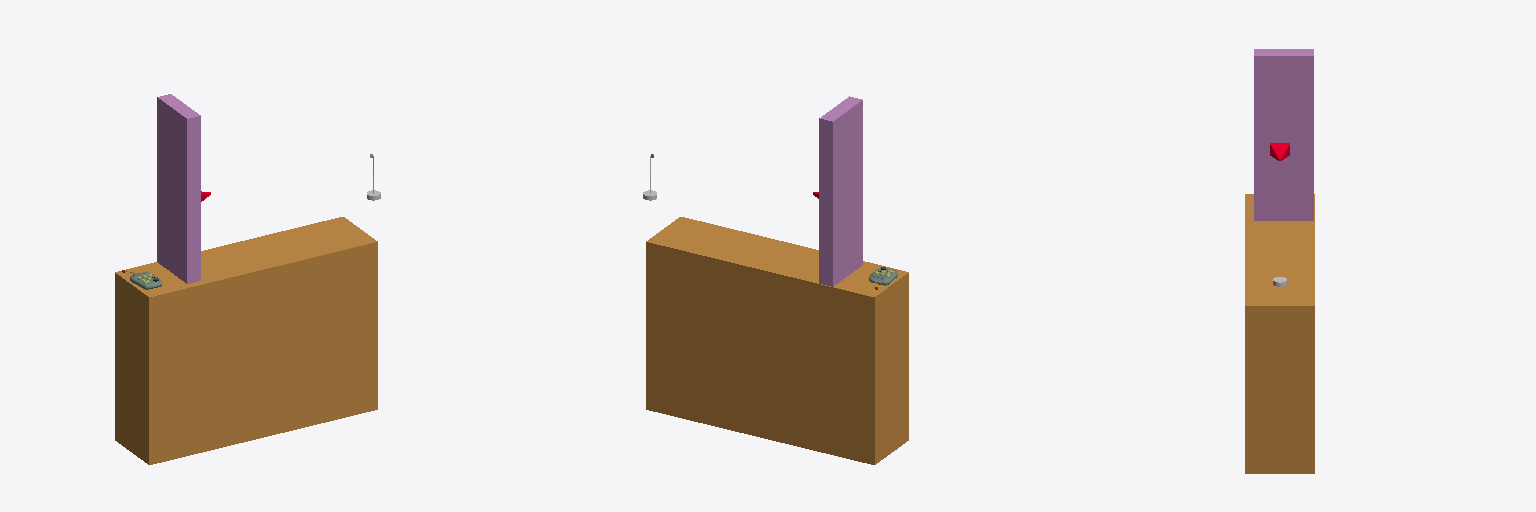
The model's file is vibrator.obj.
3 renders of one model, left to right at view 1: azimuth 30°, elevation 25°; view 2: azimuth 150°, elevation 25°; view 3: azimuth 270°, elevation 25°, orthographic.
Visible parts, largest first — view 1: Desk_desk, VibratorStand_stand; view 2: Desk_desk, VibratorStand_stand; view 3: Desk_desk, VibratorStand_stand.
Part boxes in pixels (x1,y1,x2,y2): Desk_desk: (115,217,377,464); VibratorStand_stand: (157,94,200,283); Desk_desk: (646,217,908,464); VibratorStand_stand: (819,96,862,286); Desk_desk: (1245,194,1314,473); VibratorStand_stand: (1254,49,1313,220).
Bounding box in the file's own units: 3.09 × 3.97 × 0.7472.